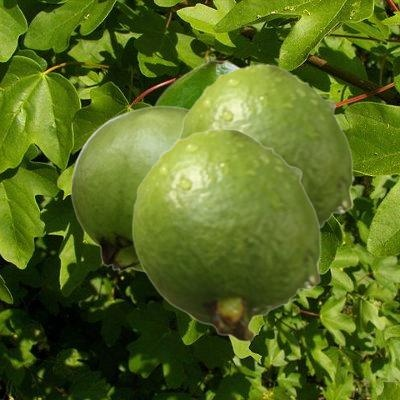guava: (131, 127, 320, 341), (179, 63, 352, 228), (70, 105, 189, 272), (154, 59, 239, 107)
